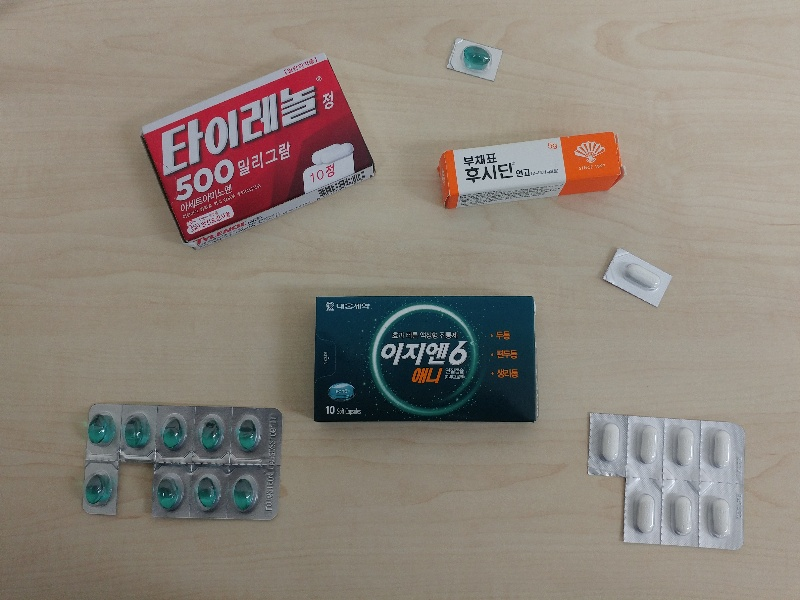ezn: (316, 295, 536, 421)
fucidin: (446, 133, 622, 196)
pill_ezn: (447, 39, 503, 81), (158, 406, 194, 460), (233, 407, 268, 462), (196, 406, 231, 460), (155, 466, 191, 517), (228, 466, 263, 518), (122, 405, 155, 459), (192, 465, 226, 517), (87, 404, 119, 458), (84, 463, 116, 516)
tylenol: (141, 52, 374, 242)
